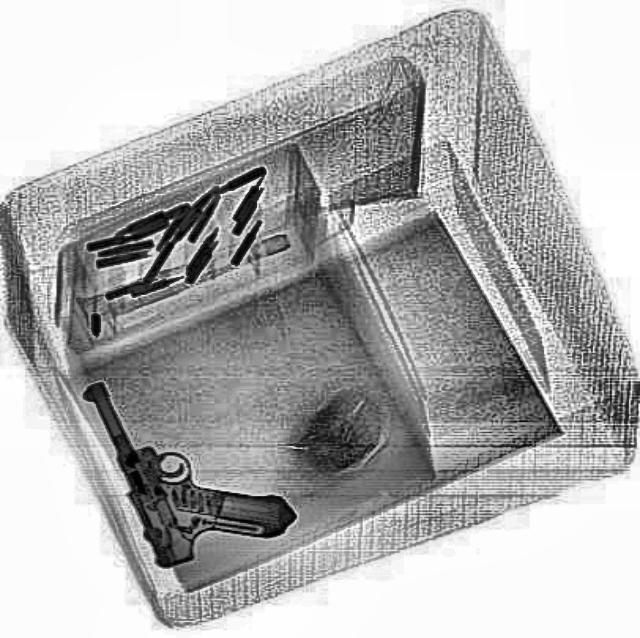Gun: (79, 335, 297, 575)
